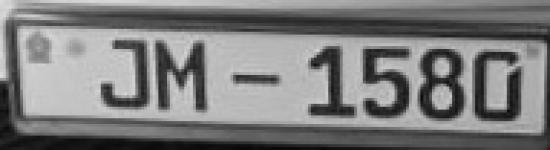-: (227, 61, 285, 98)
0: (473, 46, 530, 127)
1: (295, 39, 361, 124)
5: (360, 41, 415, 125)
8: (415, 42, 471, 125)
J: (92, 33, 154, 113)
M: (153, 33, 215, 116)
